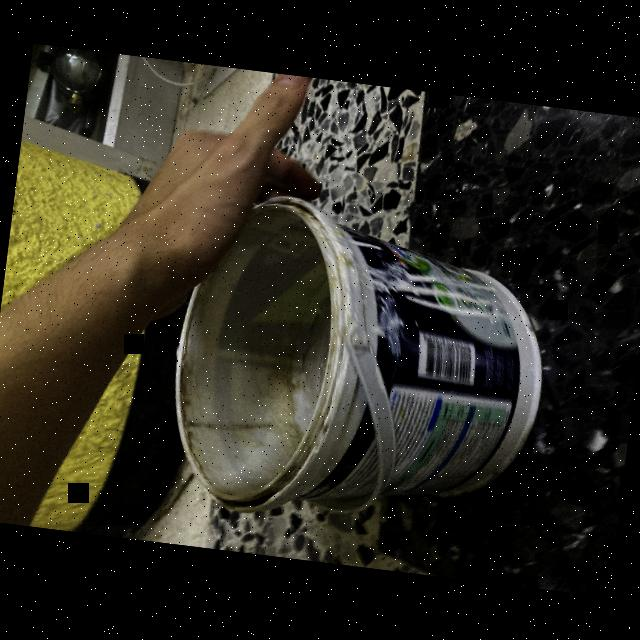paint_bucket: (153, 184, 560, 550)
